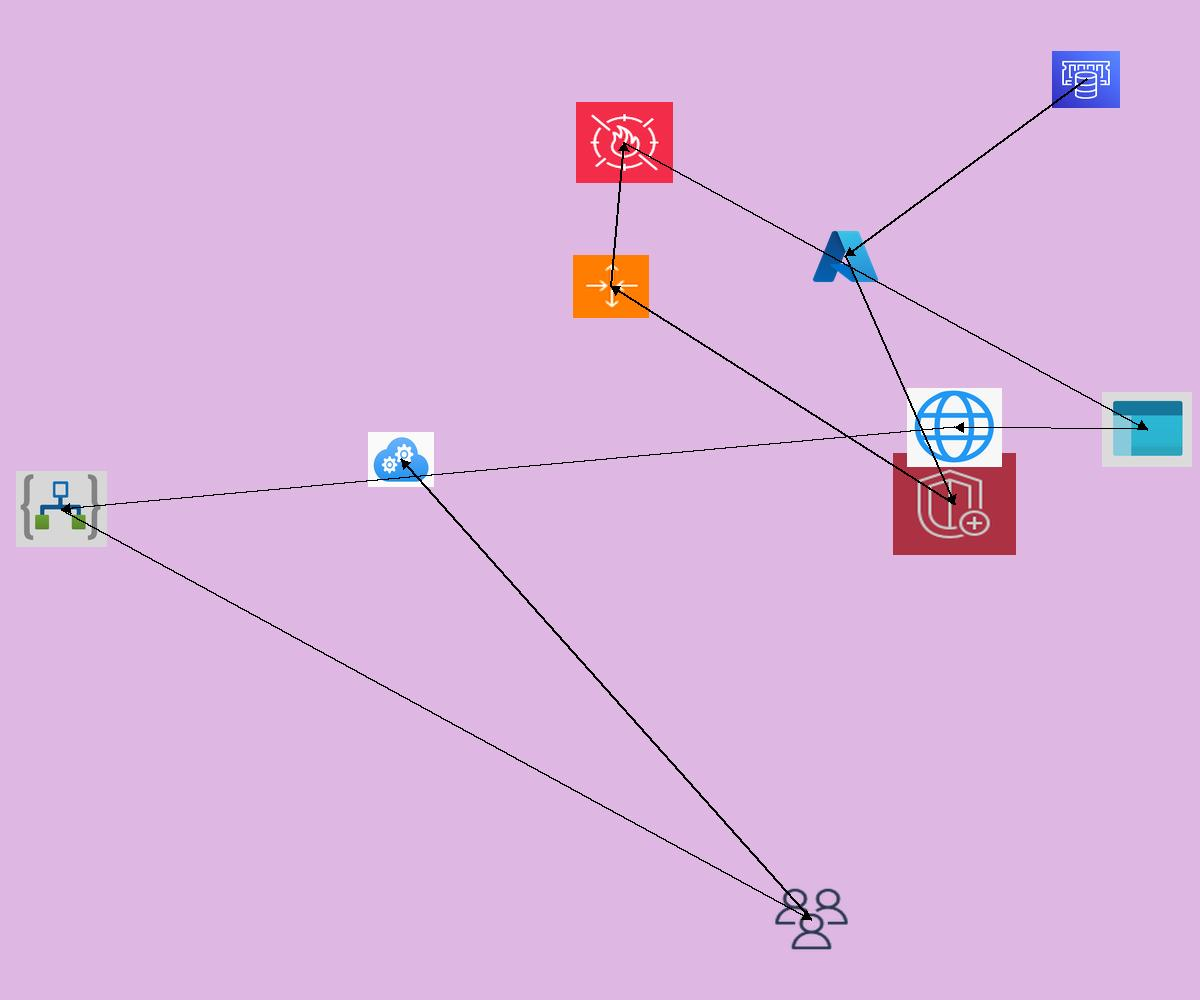AWS-ElastiCache: (1052, 51, 1120, 108)
AWS-Res_Users: (772, 886, 851, 952)
AWS-Scaling-group: (573, 255, 649, 318)
AWS-Shield: (893, 453, 1016, 555)
AWS-WAF: (576, 102, 673, 183)
Azure_cloud_services: (368, 432, 434, 487)
Azure_http: (907, 388, 1002, 467)
Azure_integration-204-Logic-Apps: (16, 471, 107, 547)
Azure_management-portal: (1102, 392, 1192, 467)
Azure_services: (810, 227, 881, 286)
